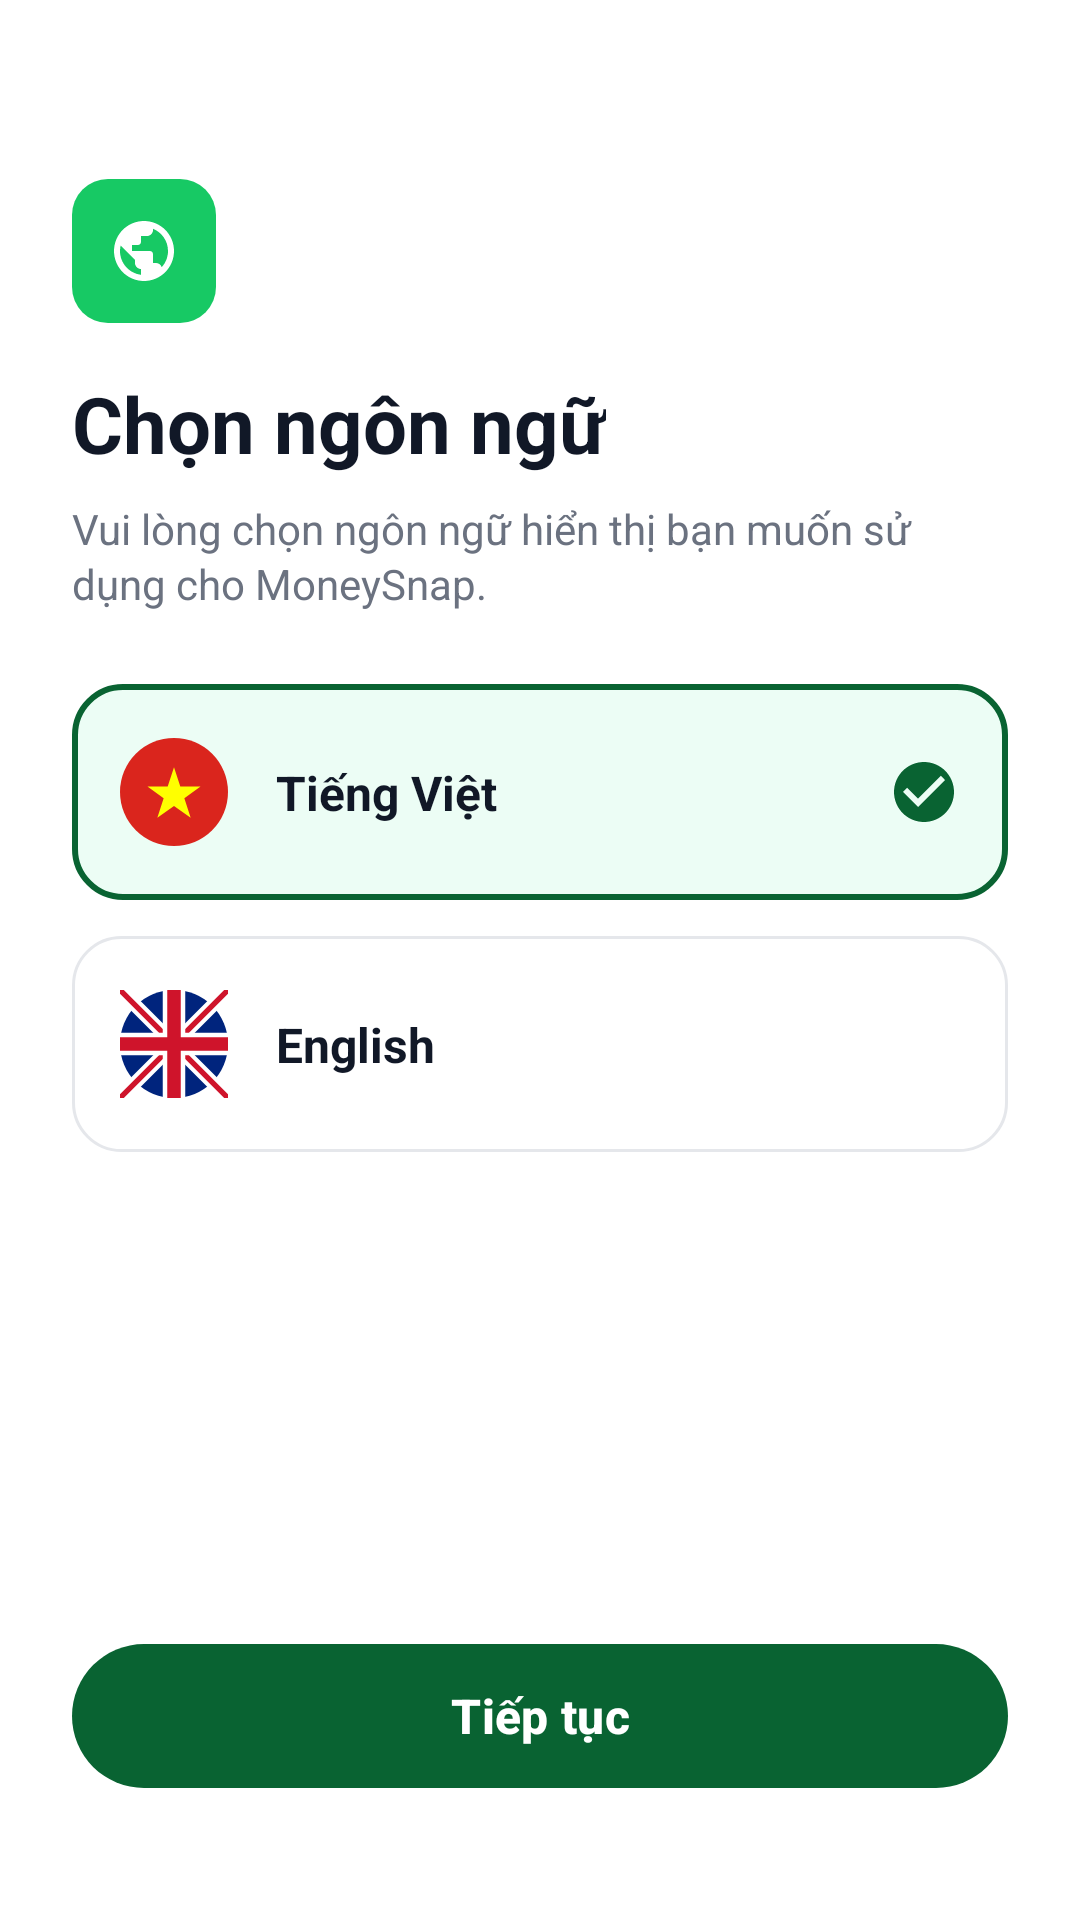

Point at icon controls on the screen. Image size 1080 x 1920, points as point (x, y).
Biểu tượng quả địa cầu: point (144, 251)
check circle: point (924, 792)
flag uk: point (174, 1044)
flag vietnam: point (174, 792)
